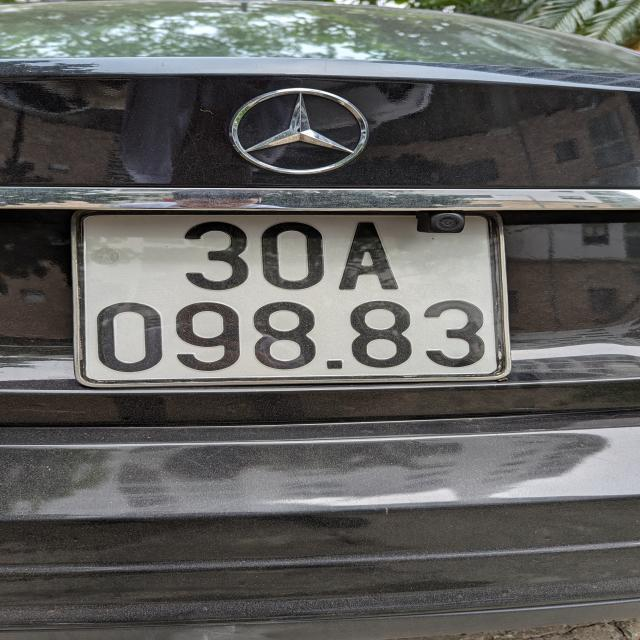license: (71, 209, 511, 388)
